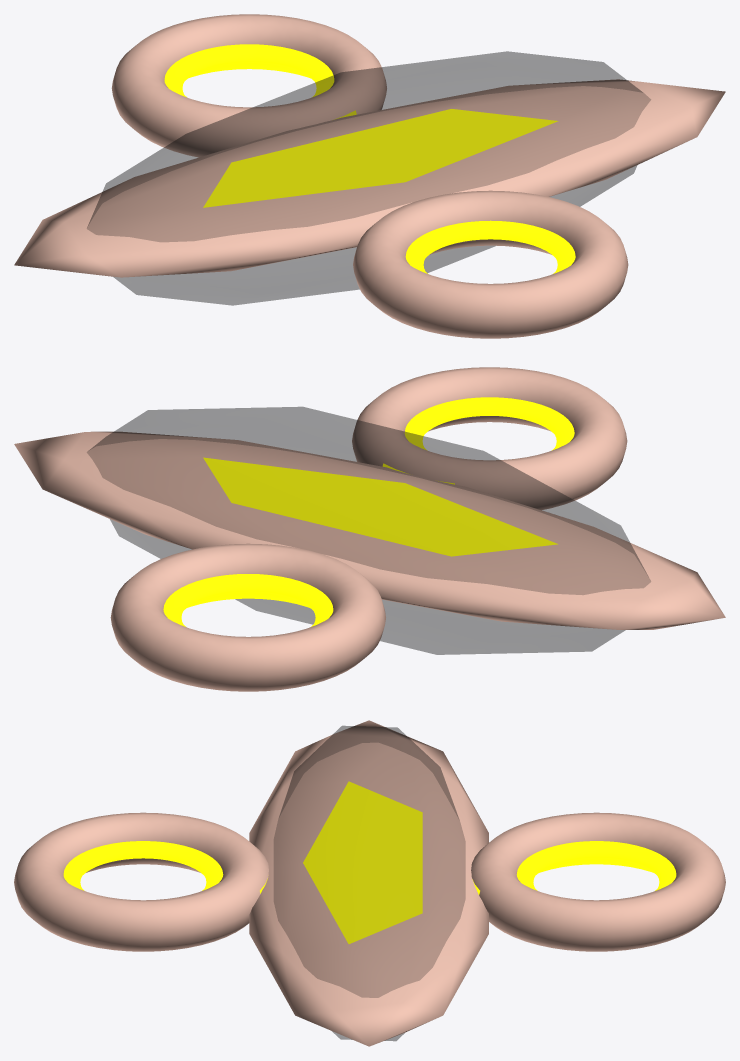
Rendered from drone3.glb.
The picture shows the model from 3 angles, top to bottom: view 1: azimuth 30°, elevation 25°; view 2: azimuth 150°, elevation 25°; view 3: azimuth 270°, elevation 25°; orthographic projection. The views are drawn at different scales.
Visible parts, largest first — view 1: Drone 3; view 2: Drone 3; view 3: Drone 3.
Part boxes in pixels (bbox=[...]): Drone 3: bbox=[14, 14, 725, 338]; Drone 3: bbox=[14, 367, 725, 691]; Drone 3: bbox=[14, 720, 725, 1046].
Bounding box in the file's own units: 13.45 × 3.6 × 12.39.
